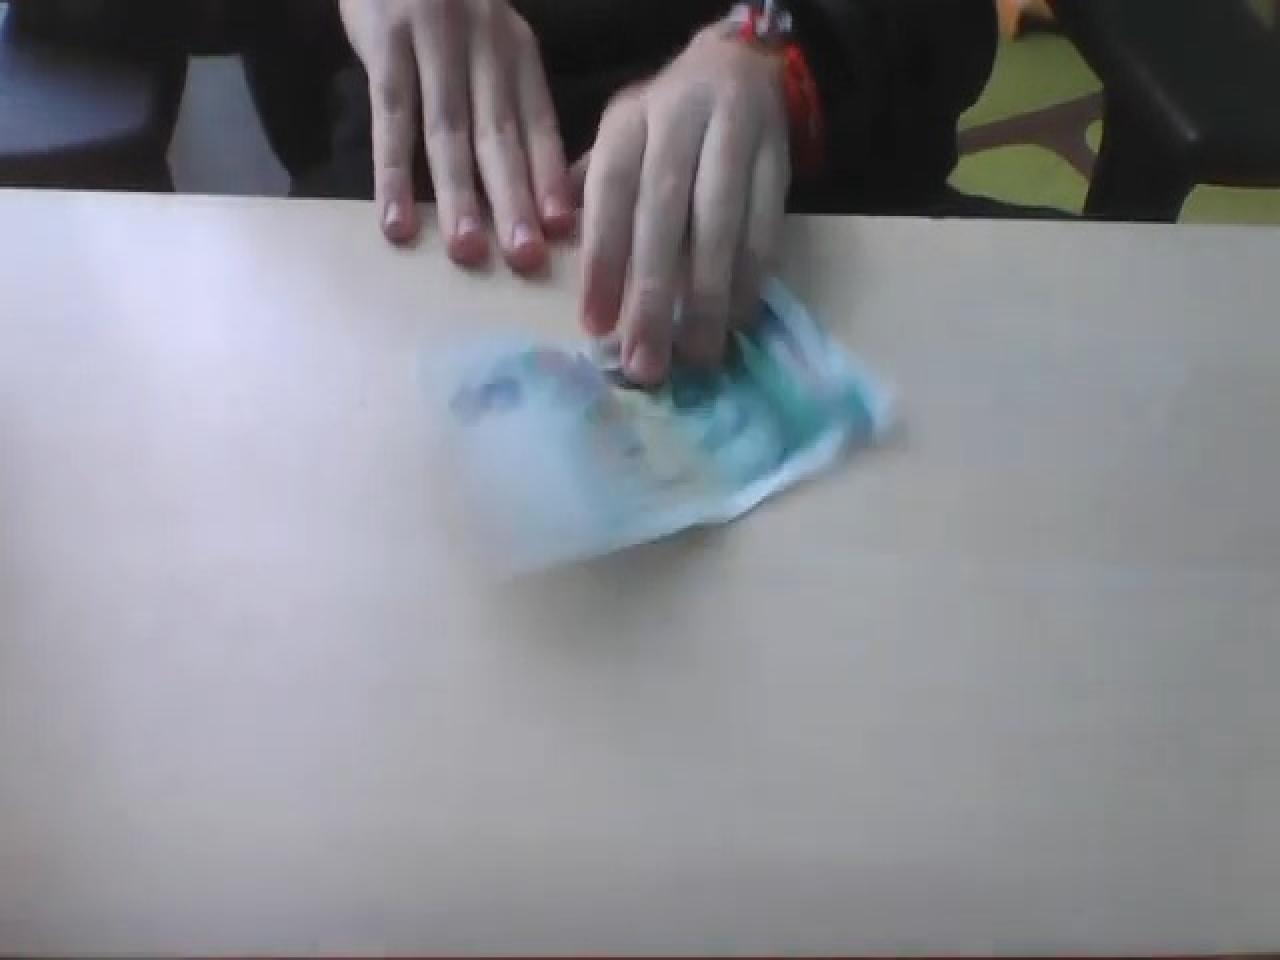100leva: (436, 269, 888, 579)
